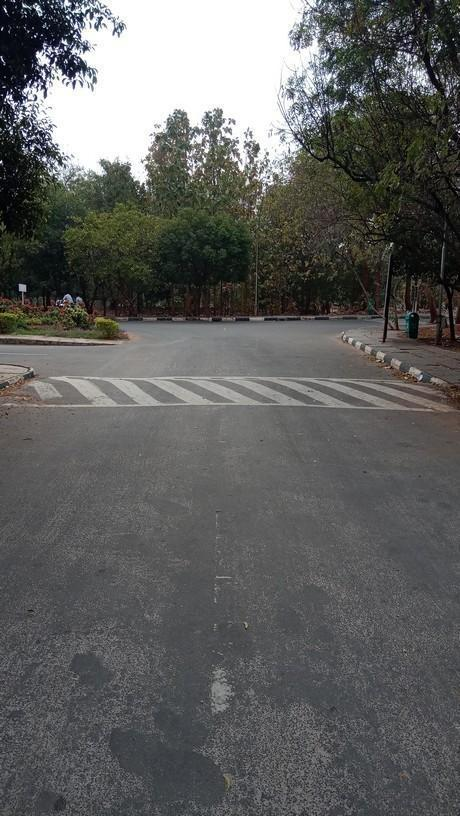speedbreaker: (0, 369, 460, 430)
